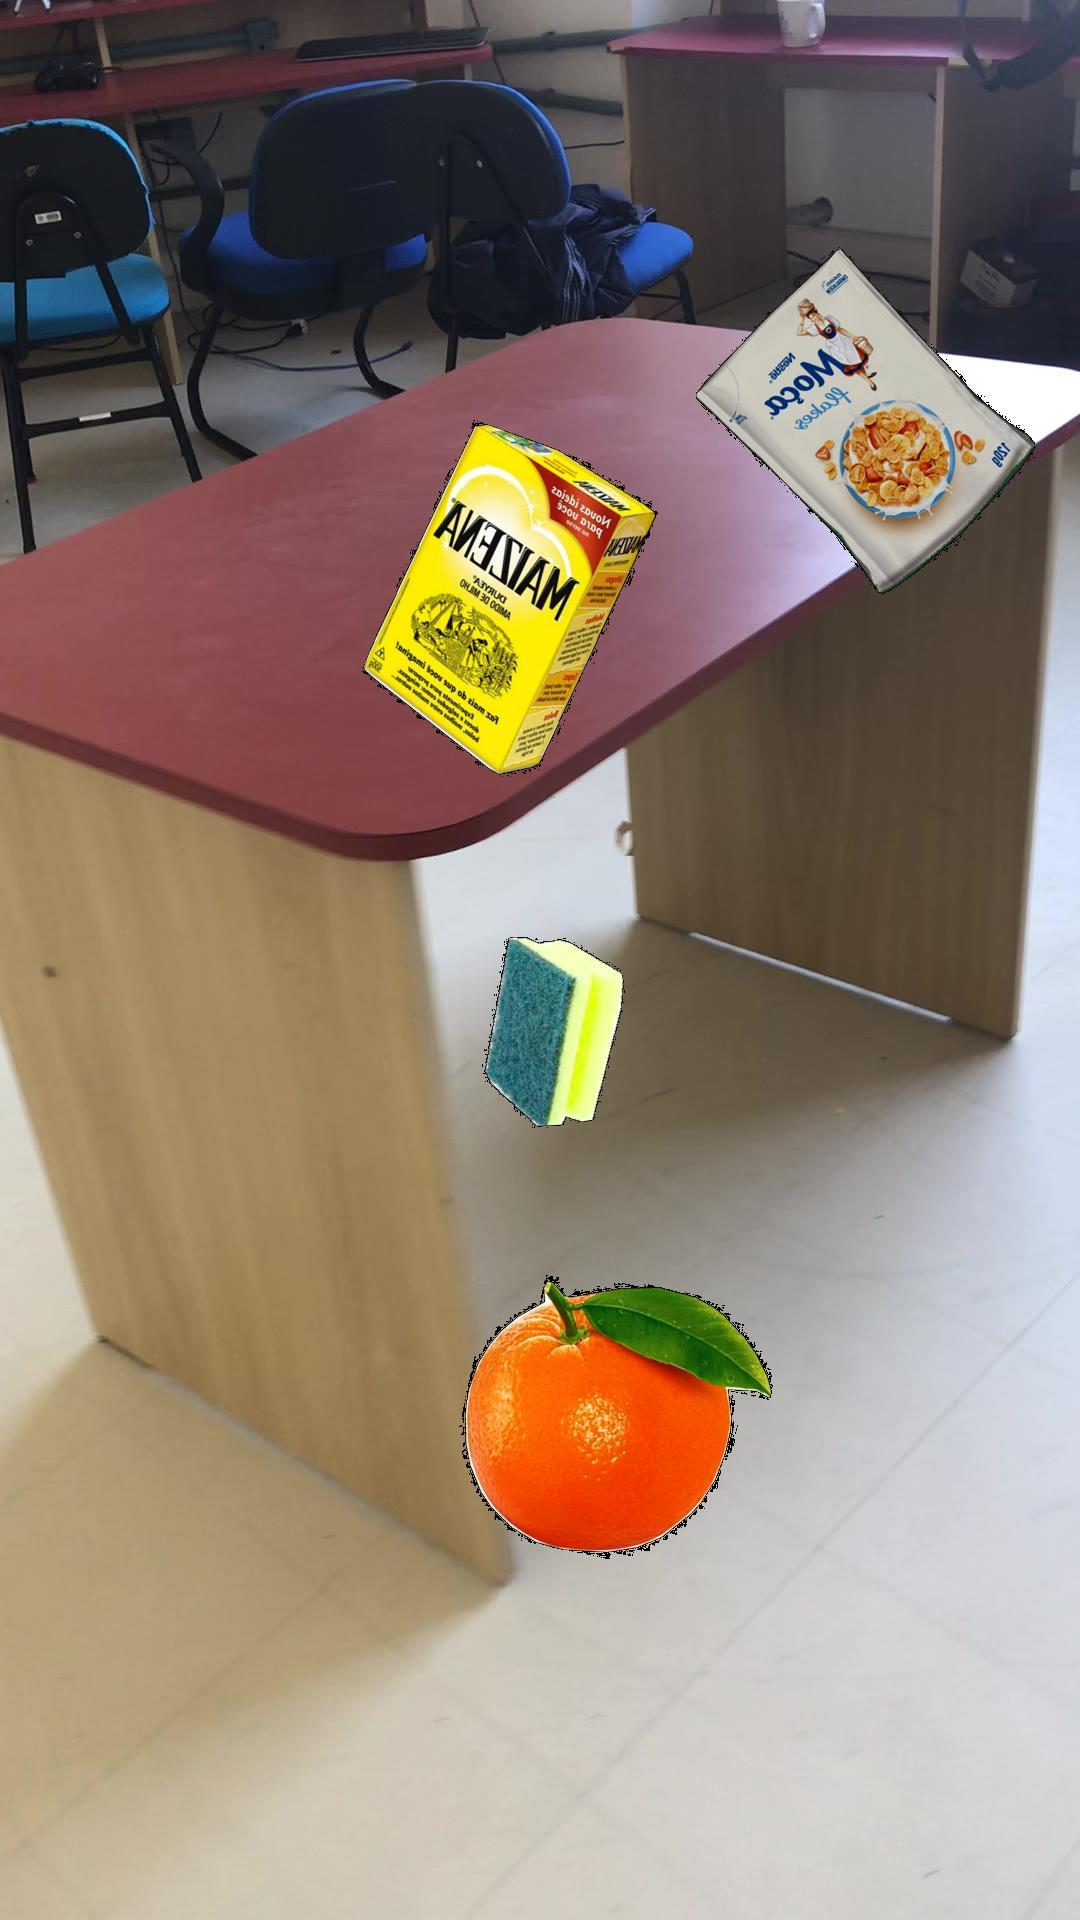corn flakes: (695, 248, 1034, 592)
orange: (459, 1274, 771, 1557)
sponge: (481, 935, 622, 1126)
